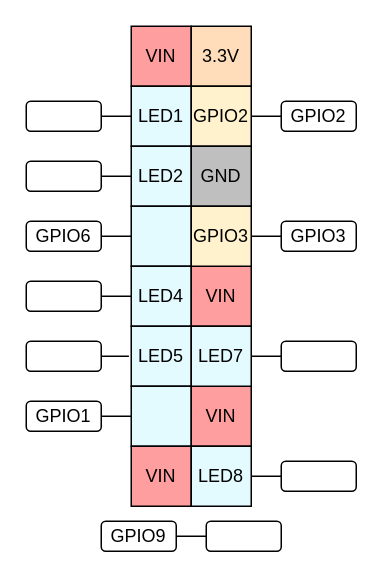
Some shapes in this 383 by 578 pixel diagram are drawn without their labels. The centre of each missing label's shape, as x and y in pixels:
GPIO0: pixel 318 475
GPIO10: pixel 63 355
GPIO4: pixel 318 355
GPIO5: pixel 63 295
GPIO7: pixel 63 175
GPIO8: pixel 63 115
LED: pixel 243 535
LED3: pixel 160 235
LED6: pixel 160 415
